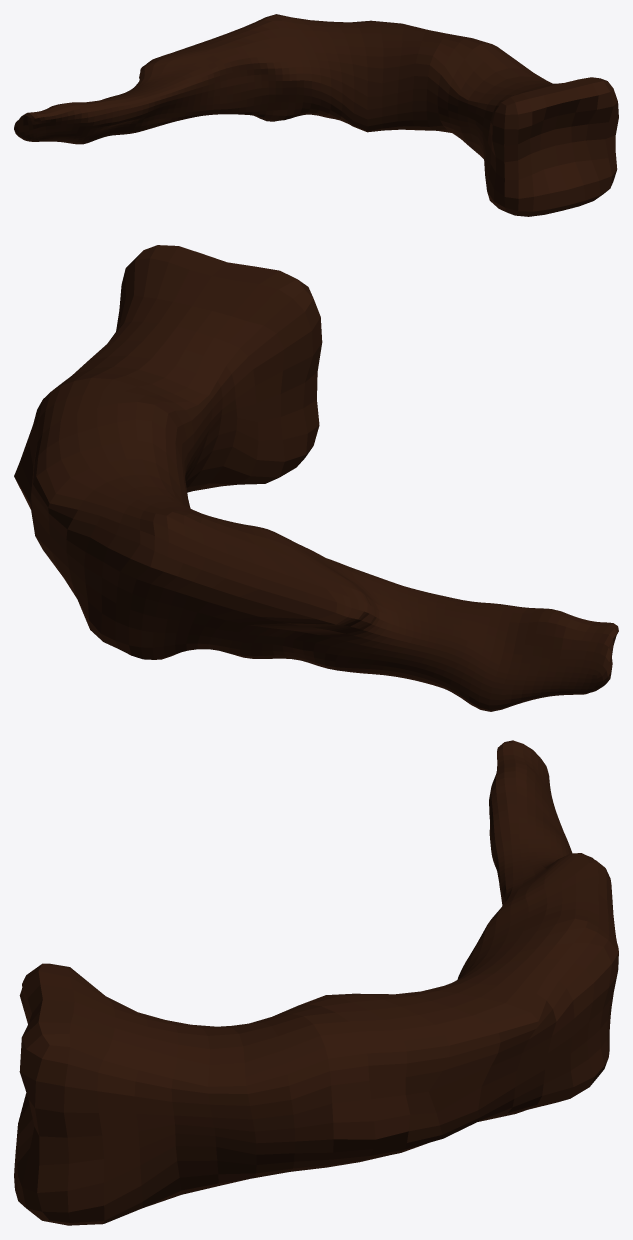
Rendered from treeTrunk.fbx.
The picture shows the model from 3 angles, top to bottom: view 1: azimuth 30°, elevation 25°; view 2: azimuth 150°, elevation 25°; view 3: azimuth 270°, elevation 25°; orthographic projection. The views are drawn at different scales.
Visible parts, largest first — view 1: Cube; view 2: Cube; view 3: Cube.
Boxes of the visible parts, box(x1,y1,x2,y2) form: Cube: box(14, 14, 618, 216); Cube: box(14, 245, 618, 711); Cube: box(14, 740, 618, 1225).
Size of the model in its own units: 1229 by 317 by 861.
